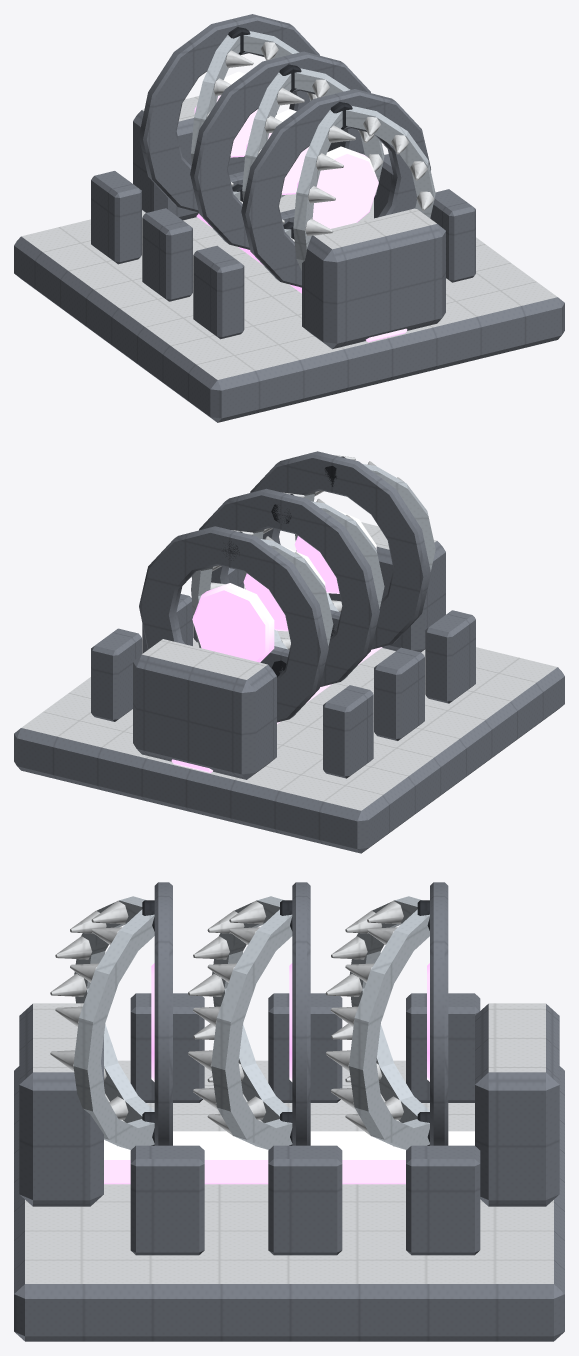
File: R4X_SnareTrapDeployer_LOD1.glb
The picture shows the model from 3 angles, top to bottom: view 1: azimuth 30°, elevation 25°; view 2: azimuth 150°, elevation 25°; view 3: azimuth 270°, elevation 25°; orthographic projection. The views are drawn at different scales.
Visible parts, largest first — view 1: R4X_SnareTrapDeployer_LOD1; view 2: R4X_SnareTrapDeployer_LOD1; view 3: R4X_SnareTrapDeployer_LOD1.
Boxes of the visible parts, x1,y1,x2,y2 form: R4X_SnareTrapDeployer_LOD1: (14, 14, 564, 422); R4X_SnareTrapDeployer_LOD1: (14, 451, 564, 853); R4X_SnareTrapDeployer_LOD1: (14, 882, 564, 1341).
Size of the model in its own units: 0.52 by 0.3479 by 0.52.
5 materials, 4 textured.
